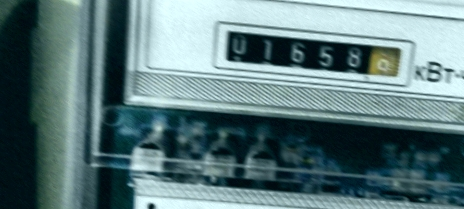0: (230, 31, 249, 53)
1: (260, 34, 275, 59)
5: (317, 41, 335, 66)
6: (288, 37, 308, 63)
8: (345, 43, 364, 66)
9: (374, 53, 391, 76)
screen: (209, 15, 419, 90)
